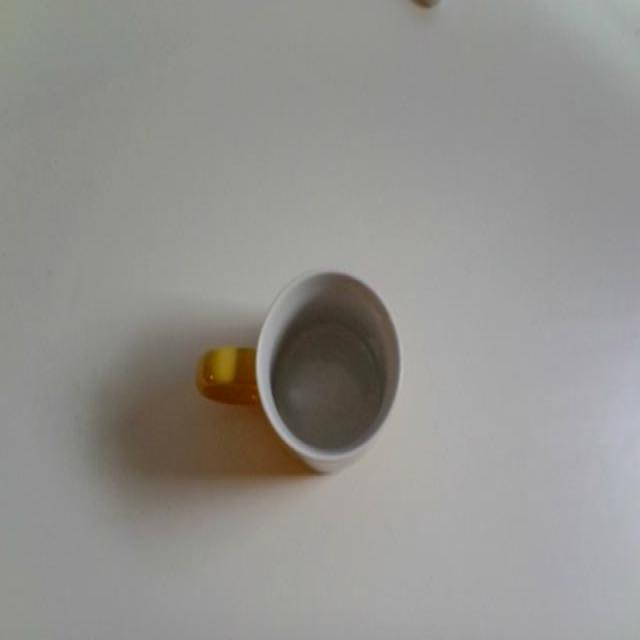cup: (180, 235, 410, 497)
